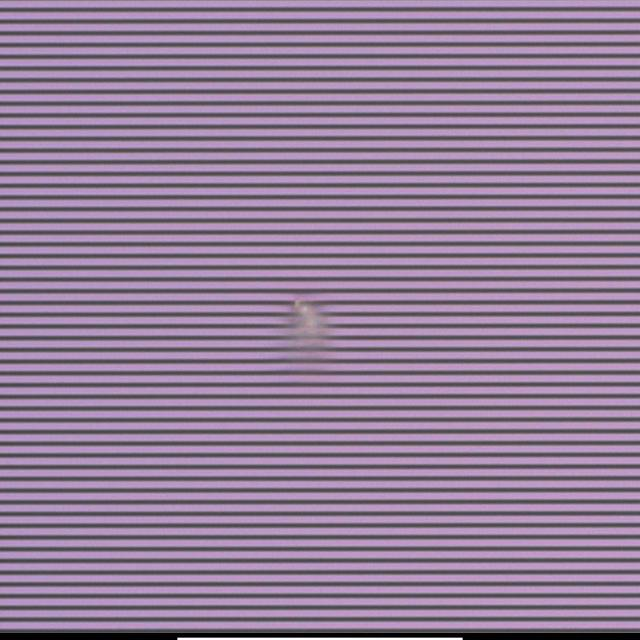nonvisual: (289, 298, 323, 348)
